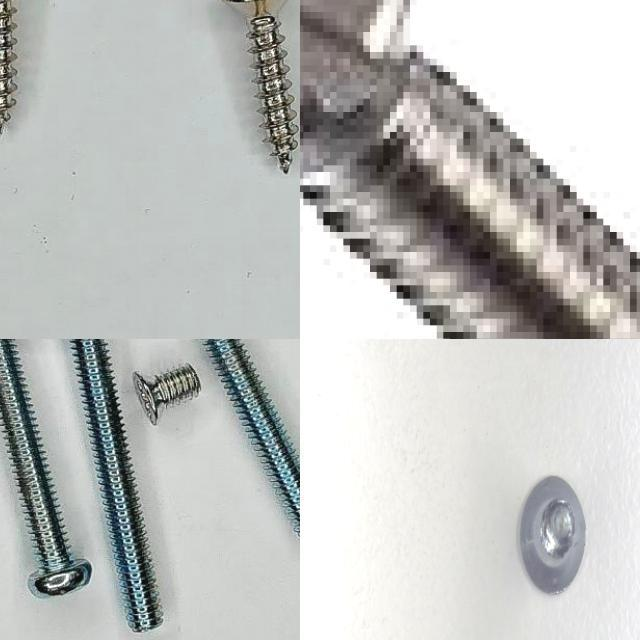Screw: (300, 0, 640, 339), (71, 339, 163, 633), (0, 339, 92, 598), (206, 339, 300, 534), (223, 0, 299, 173), (520, 475, 586, 593), (134, 365, 202, 425), (0, 0, 17, 138)
